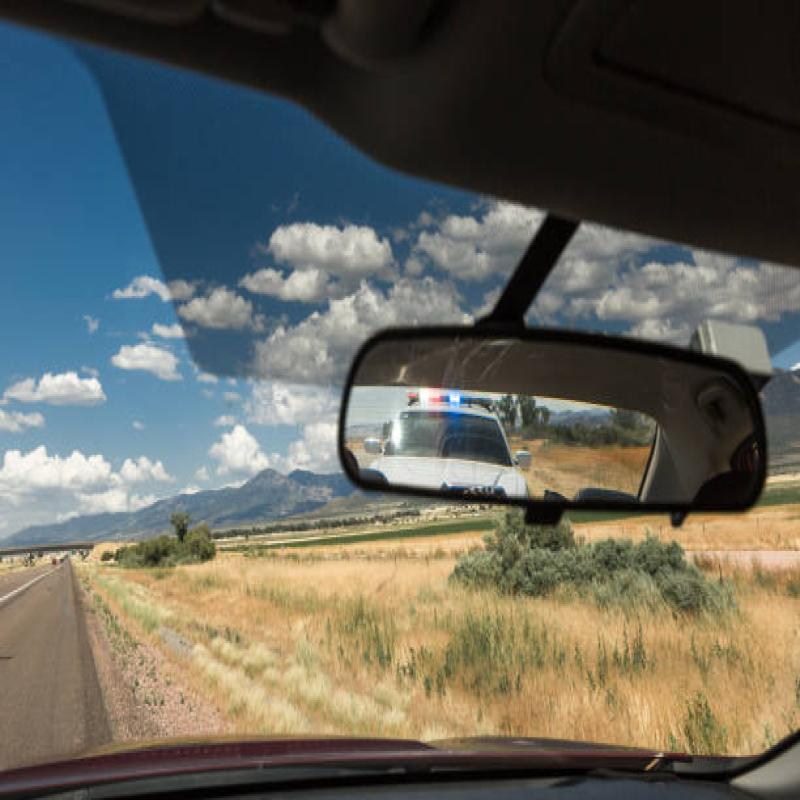AmbulanceSiren: (404, 370, 472, 416)
